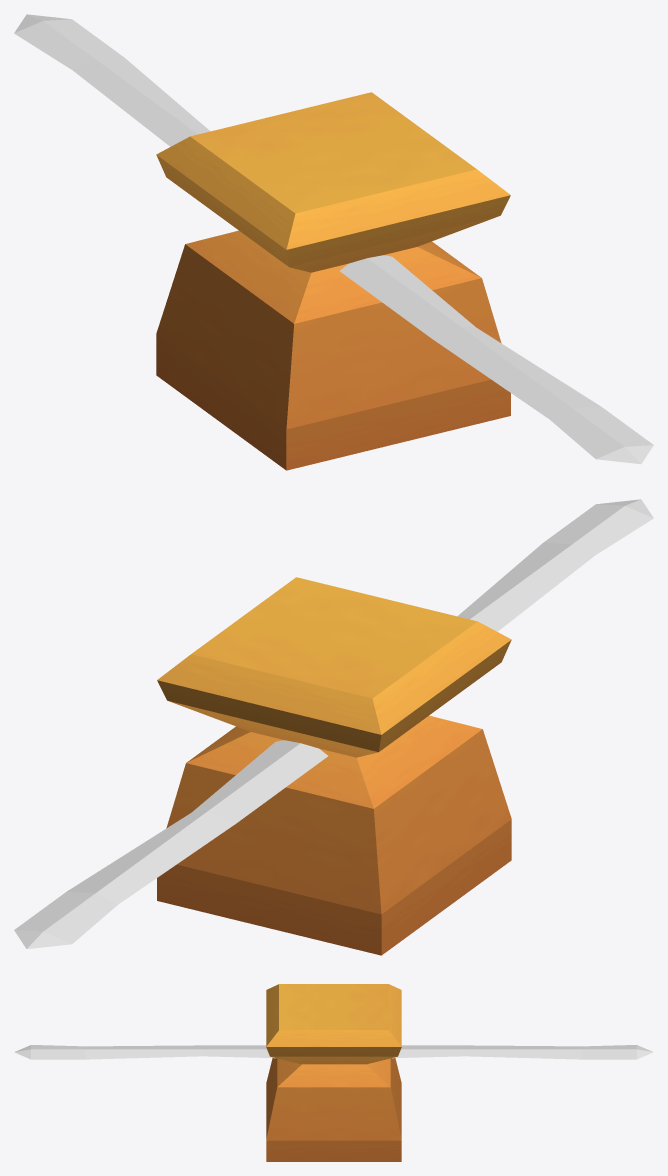
File: BladeTrap.glb
3 views of the same model, one above another, from view 1: azimuth 30°, elevation 25°; view 2: azimuth 150°, elevation 25°; view 3: azimuth 270°, elevation 25° (orthographic). The views are drawn at different scales.
Parts seen in each view (by area): view 1: BladeTrap, Blade; view 2: BladeTrap, Blade; view 3: BladeTrap, Blade.
Part boxes in pixels (x1=…): BladeTrap: x1=156, y1=92, x2=510, y2=470; Blade: x1=14, y1=14, x2=653, y2=464; BladeTrap: x1=157, y1=577, x2=511, y2=955; Blade: x1=14, y1=499, x2=653, y2=949; BladeTrap: x1=266, y1=984, x2=401, y2=1161; Blade: x1=14, y1=1045, x2=653, y2=1059.
Size of the model in its own units: 0.5186 by 0.5358 by 2.46.
1 material, 1 textured.
